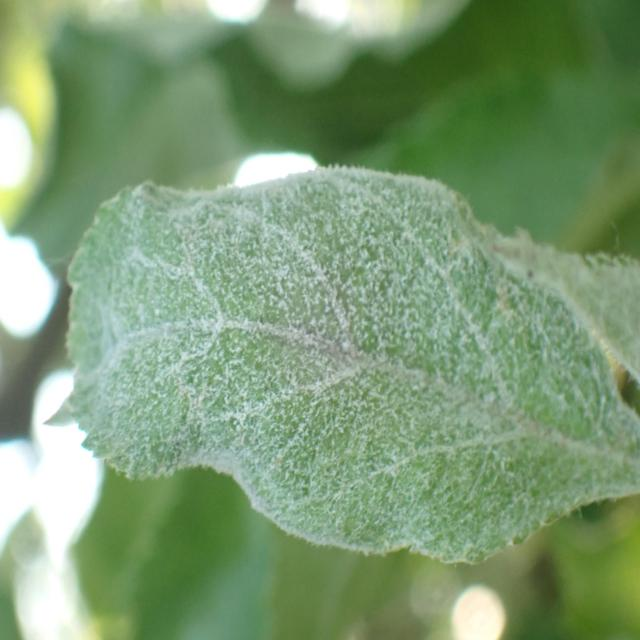Powdery_mildew: (37, 146, 640, 572)
